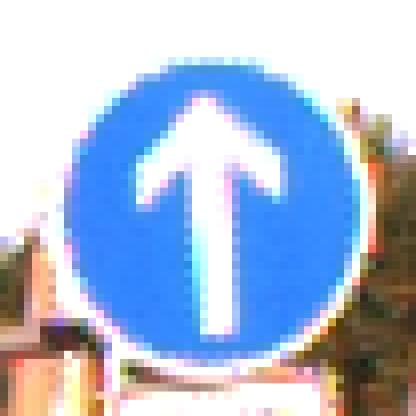AheadOnly: (41, 42, 377, 376)
